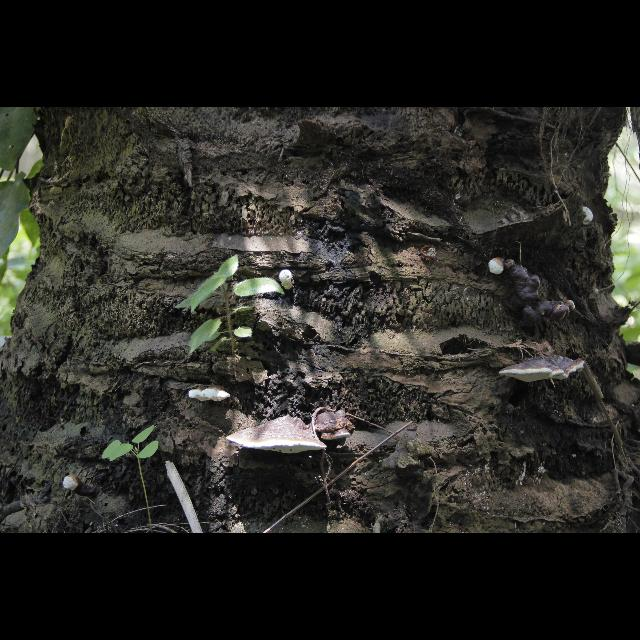ganoderma: (507, 260, 568, 331), (226, 416, 328, 456), (500, 354, 586, 385), (311, 411, 357, 442), (190, 386, 233, 403)
primordium: (280, 271, 297, 292), (64, 476, 83, 493), (489, 258, 505, 276), (583, 208, 595, 227), (568, 301, 576, 314)
